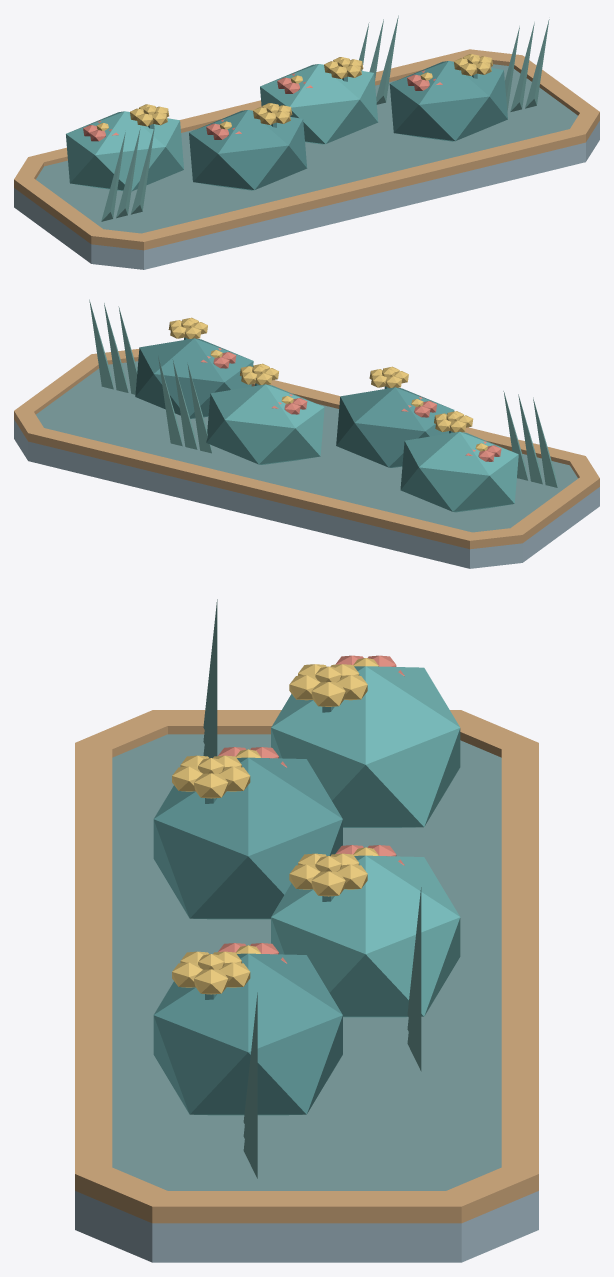
Rendered from campus_flower_bed.glb.
3 renders of one model, top to bottom at view 1: azimuth 30°, elevation 25°; view 2: azimuth 150°, elevation 25°; view 3: azimuth 270°, elevation 25°, orthographic. The views are drawn at different scales.
Visible parts, largest first — view 1: campus_flower_bed; view 2: campus_flower_bed; view 3: campus_flower_bed.
Boxes of the visible parts, x1,y1,x2,y2 form: campus_flower_bed: (14,15,599,269); campus_flower_bed: (14,299,599,568); campus_flower_bed: (75,599,538,1262).
Bounding box in the file's own units: 3.8 × 0.78 × 1.5.
1 material, 1 textured.
